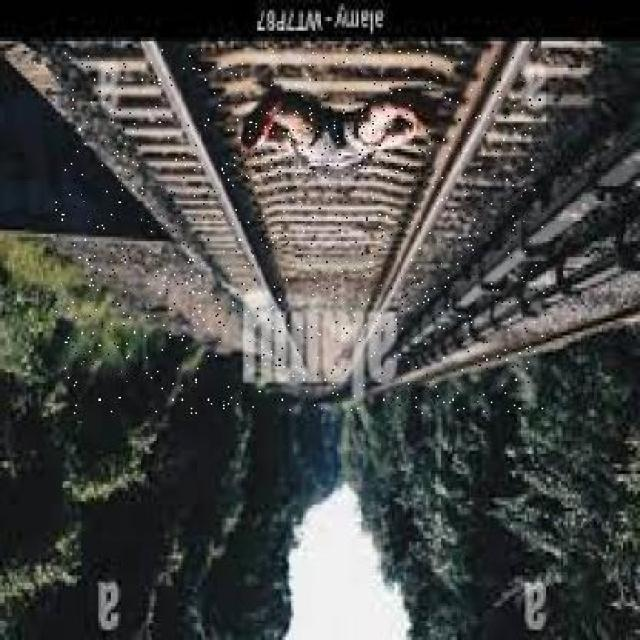danger: (252, 108, 431, 178)
rail: (55, 49, 546, 413)
